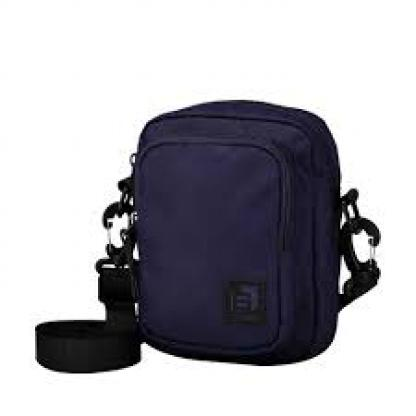morral: (35, 72, 392, 390)
